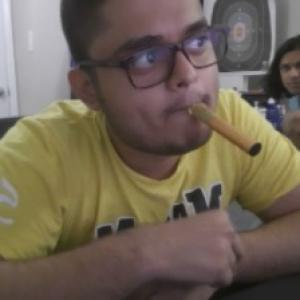Golden-E-Ciggirate: (190, 99, 263, 159)
